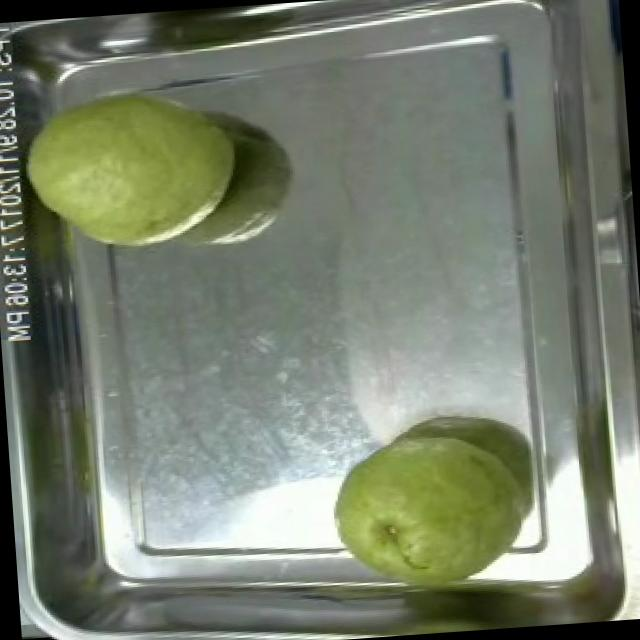Fruit: (8, 69, 253, 265), (315, 408, 543, 606)
